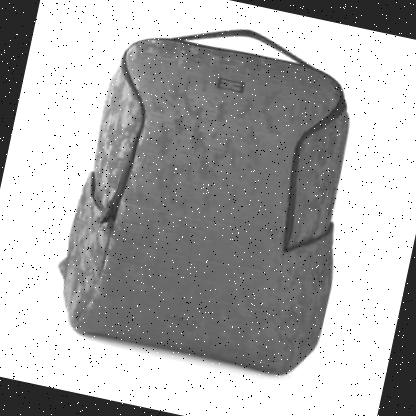bag: (38, 0, 383, 392)
